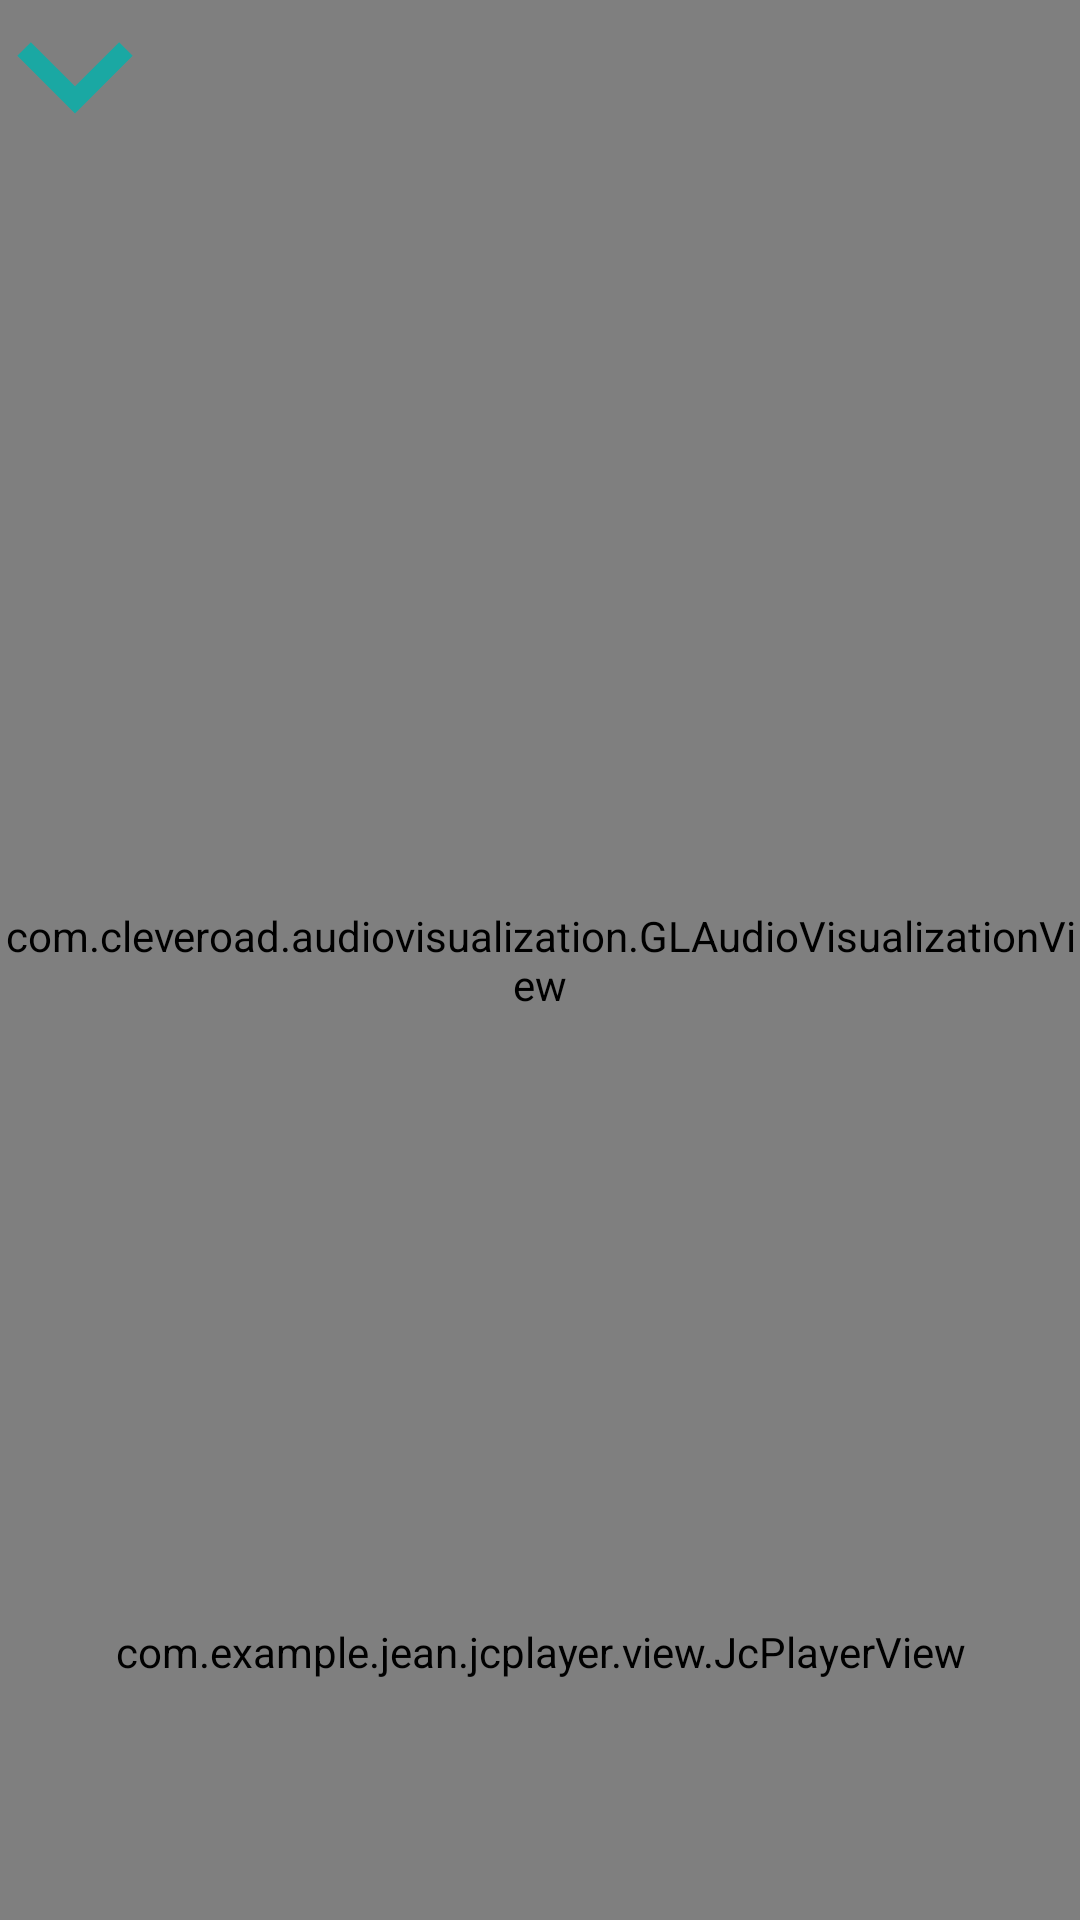

Where icons sit on this 1080×1920 app screen, as (x1, y1, x2, y2):
close song: (17, 42, 133, 113)
